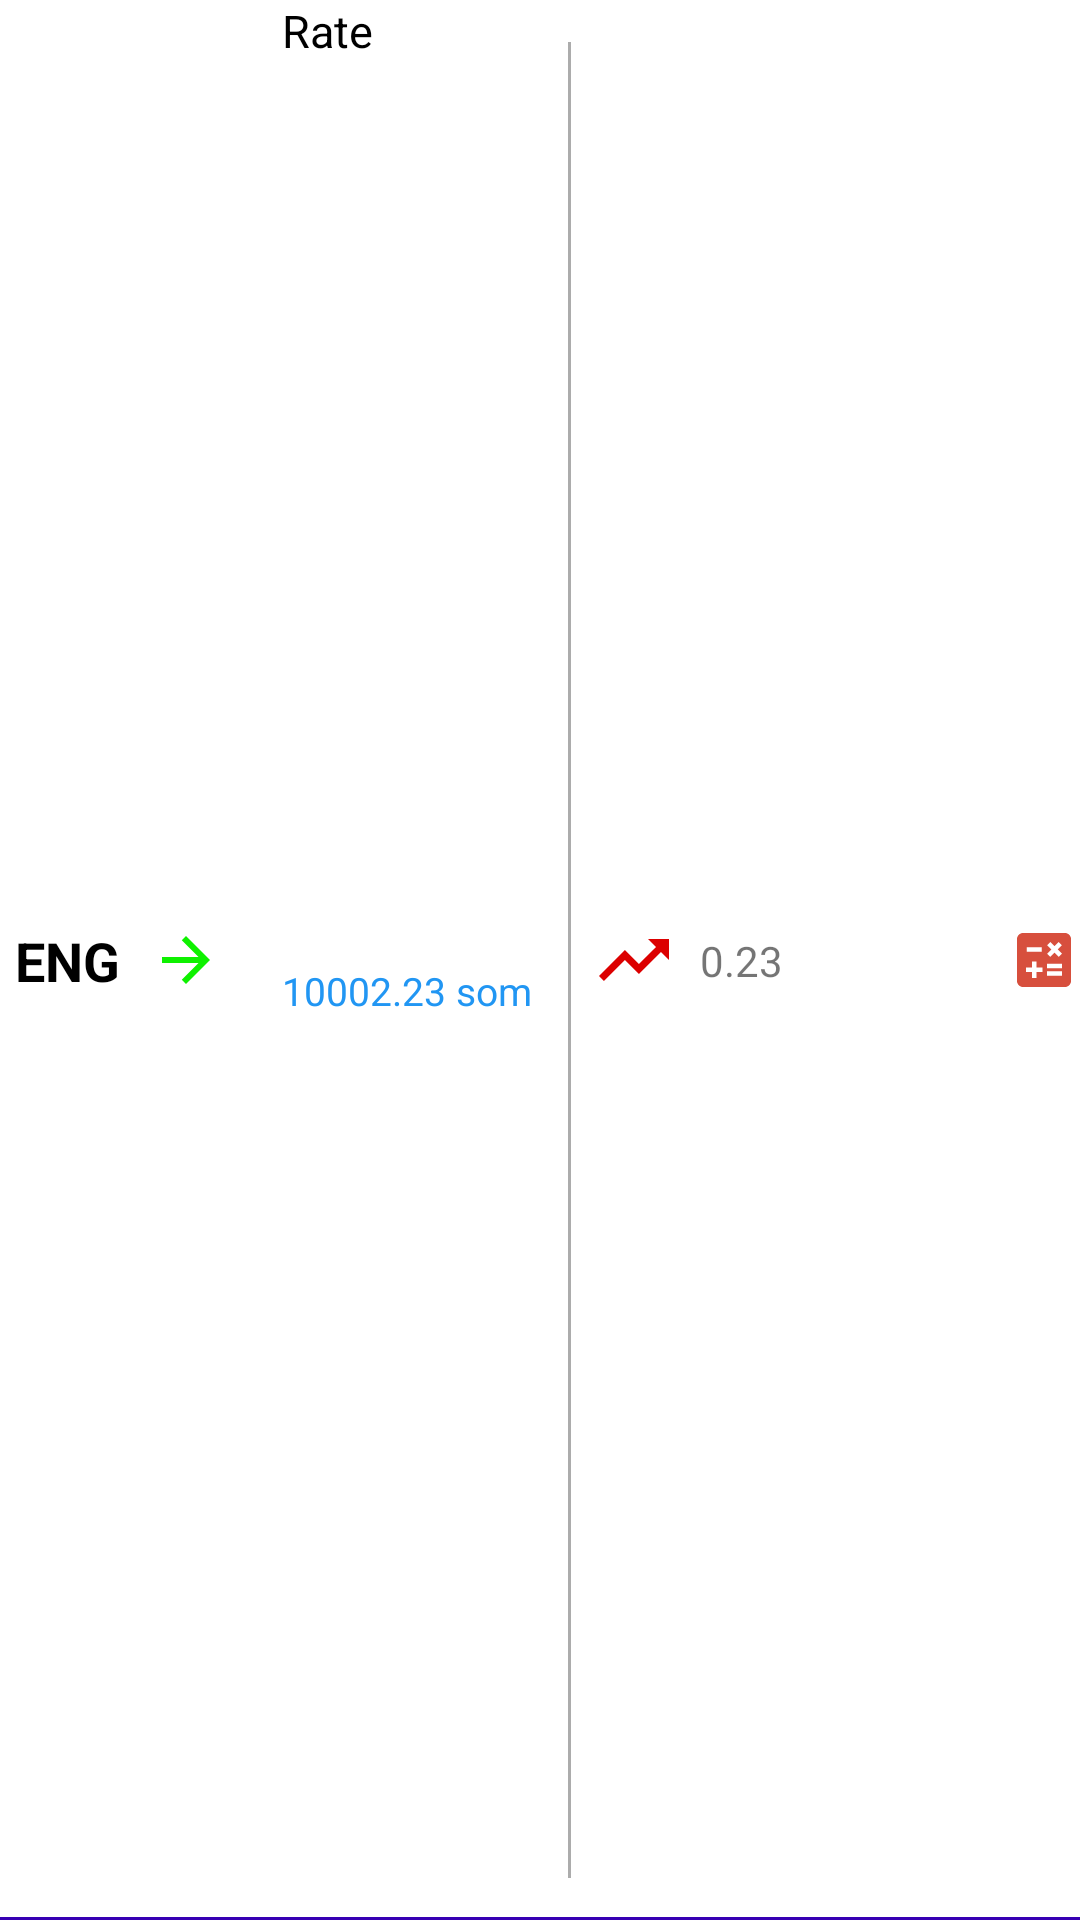

Icon bounding boxes for this 1080*1920 phone screenshot, format {"x1": x1, "y1": y1, "x2": x2, "y2": y2}:
arrow forward: {"x1": 162, "y1": 936, "x2": 210, "y2": 984}
calculate: {"x1": 1017, "y1": 933, "x2": 1071, "y2": 987}
trending up: {"x1": 599, "y1": 939, "x2": 669, "y2": 981}
